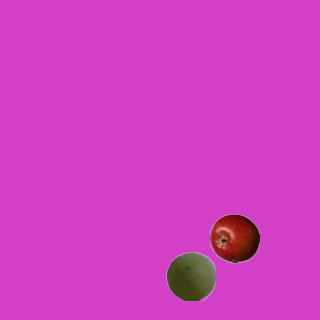Apple Braeburn: (209, 213, 259, 263)
Grape White 4: (165, 251, 215, 301)
